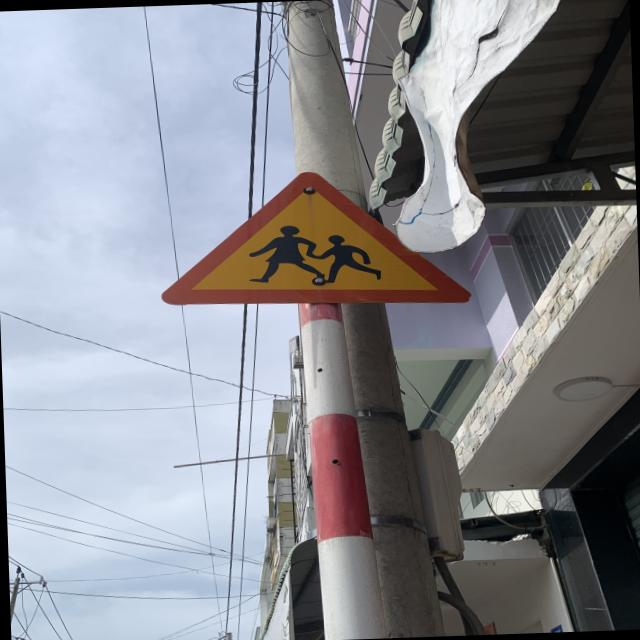Vong_Xuyen: (156, 164, 471, 313)
